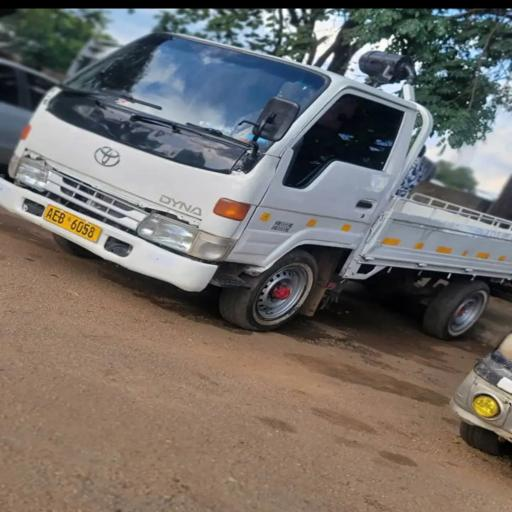number-plates: (43, 197, 103, 242)
